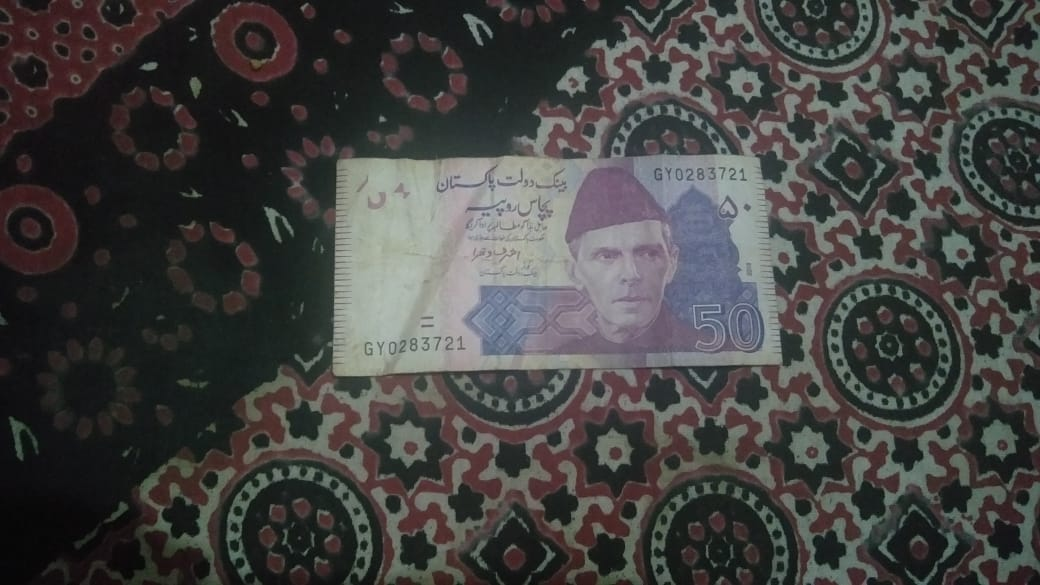50 rupee: (328, 130, 776, 391)
